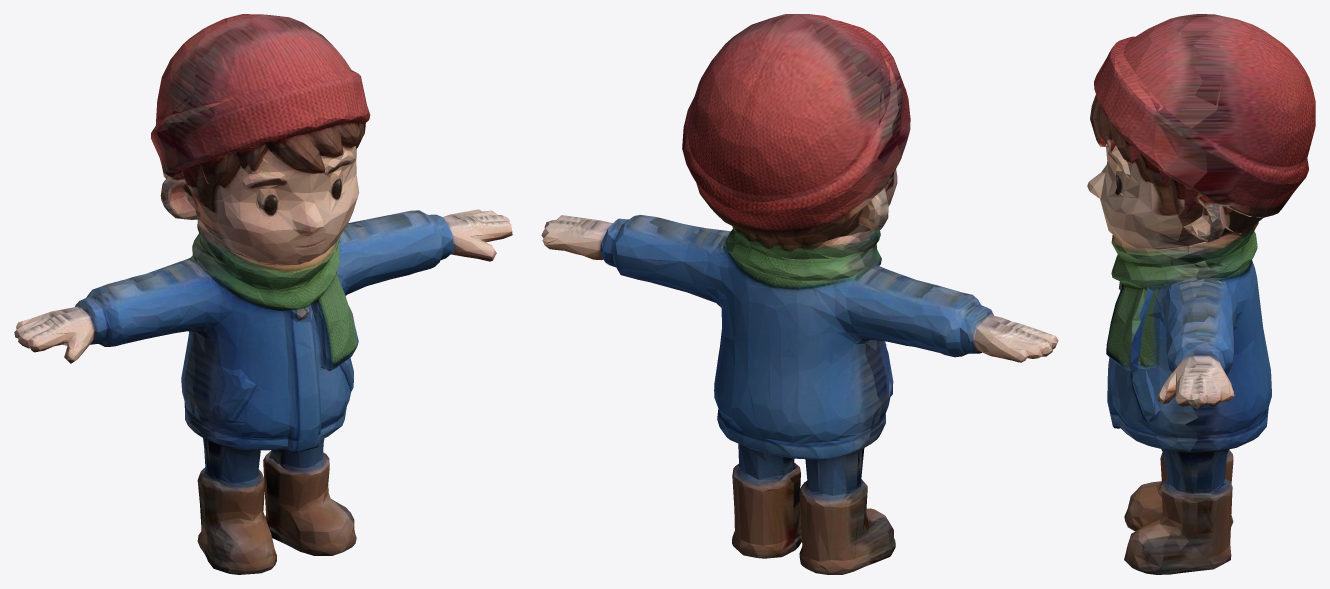
The model's file is v_boy.glb.
The picture shows the model from 3 angles, left to right: view 1: azimuth 30°, elevation 25°; view 2: azimuth 150°, elevation 25°; view 3: azimuth 270°, elevation 25°; orthographic projection. The views are drawn at different scales.
Visible parts, largest first — view 1: geometry_0; view 2: geometry_0; view 3: geometry_0.
Part boxes in pixels (<box>): geometry_0: <box>14,14,512,574</box>; geometry_0: <box>541,14,1058,574</box>; geometry_0: <box>1087,14,1315,574</box>.
Size of the model in its own units: 0.998 by 1 by 0.3994.
1 material, 1 textured.
